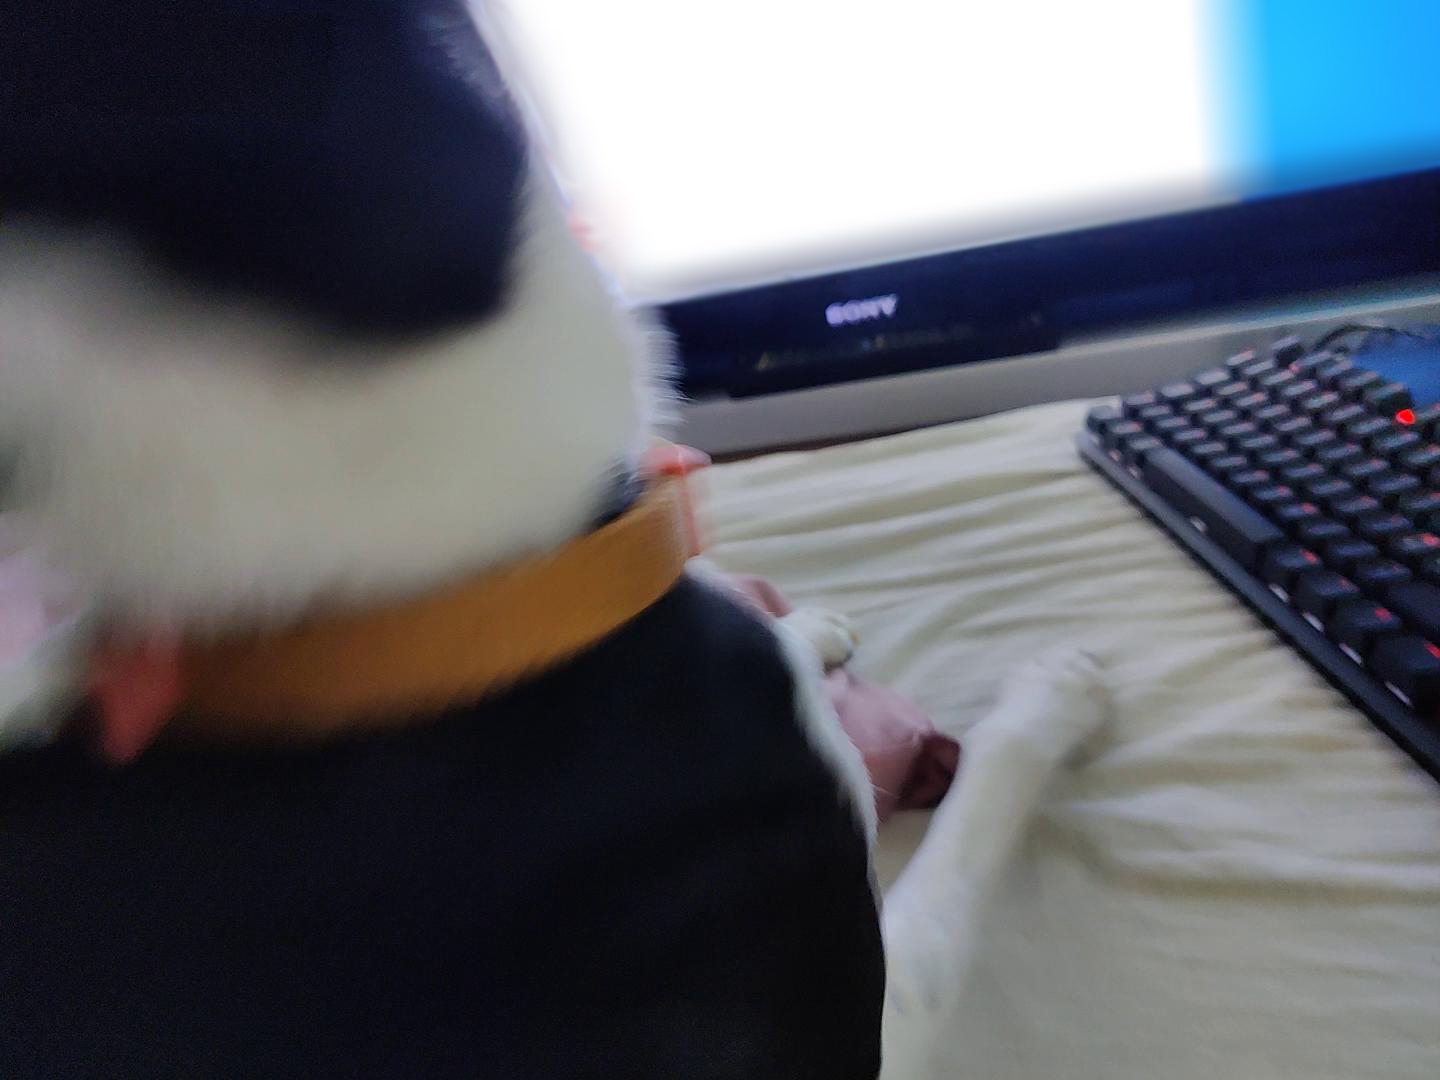Dog: (0, 0, 1132, 1079)
